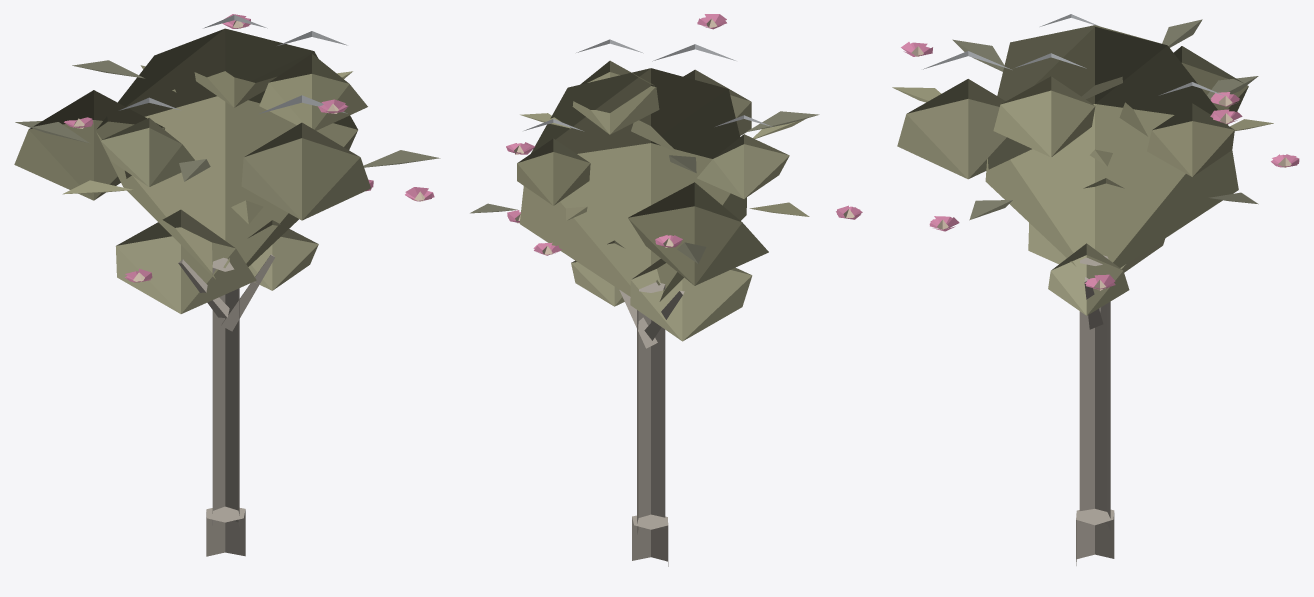
The model's file is shu.chuizhi@flowering__winter.glb.
3 views of the same model, side by side, from view 1: azimuth 30°, elevation 25°; view 2: azimuth 150°, elevation 25°; view 3: azimuth 270°, elevation 25° (orthographic). The views are drawn at different scales.
Parts seen in each view (by area): view 1: shu.chuizhi@flowering__winter; view 2: shu.chuizhi@flowering__winter; view 3: shu.chuizhi@flowering__winter.
Part boxes in pixels (left/top/right/bottom): shu.chuizhi@flowering__winter: left=14, top=14, right=440, bottom=556; shu.chuizhi@flowering__winter: left=470, top=14, right=862, bottom=566; shu.chuizhi@flowering__winter: left=892, top=14, right=1299, bottom=565.
Size of the model in its own units: 6.6 by 10.36 by 7.05.
